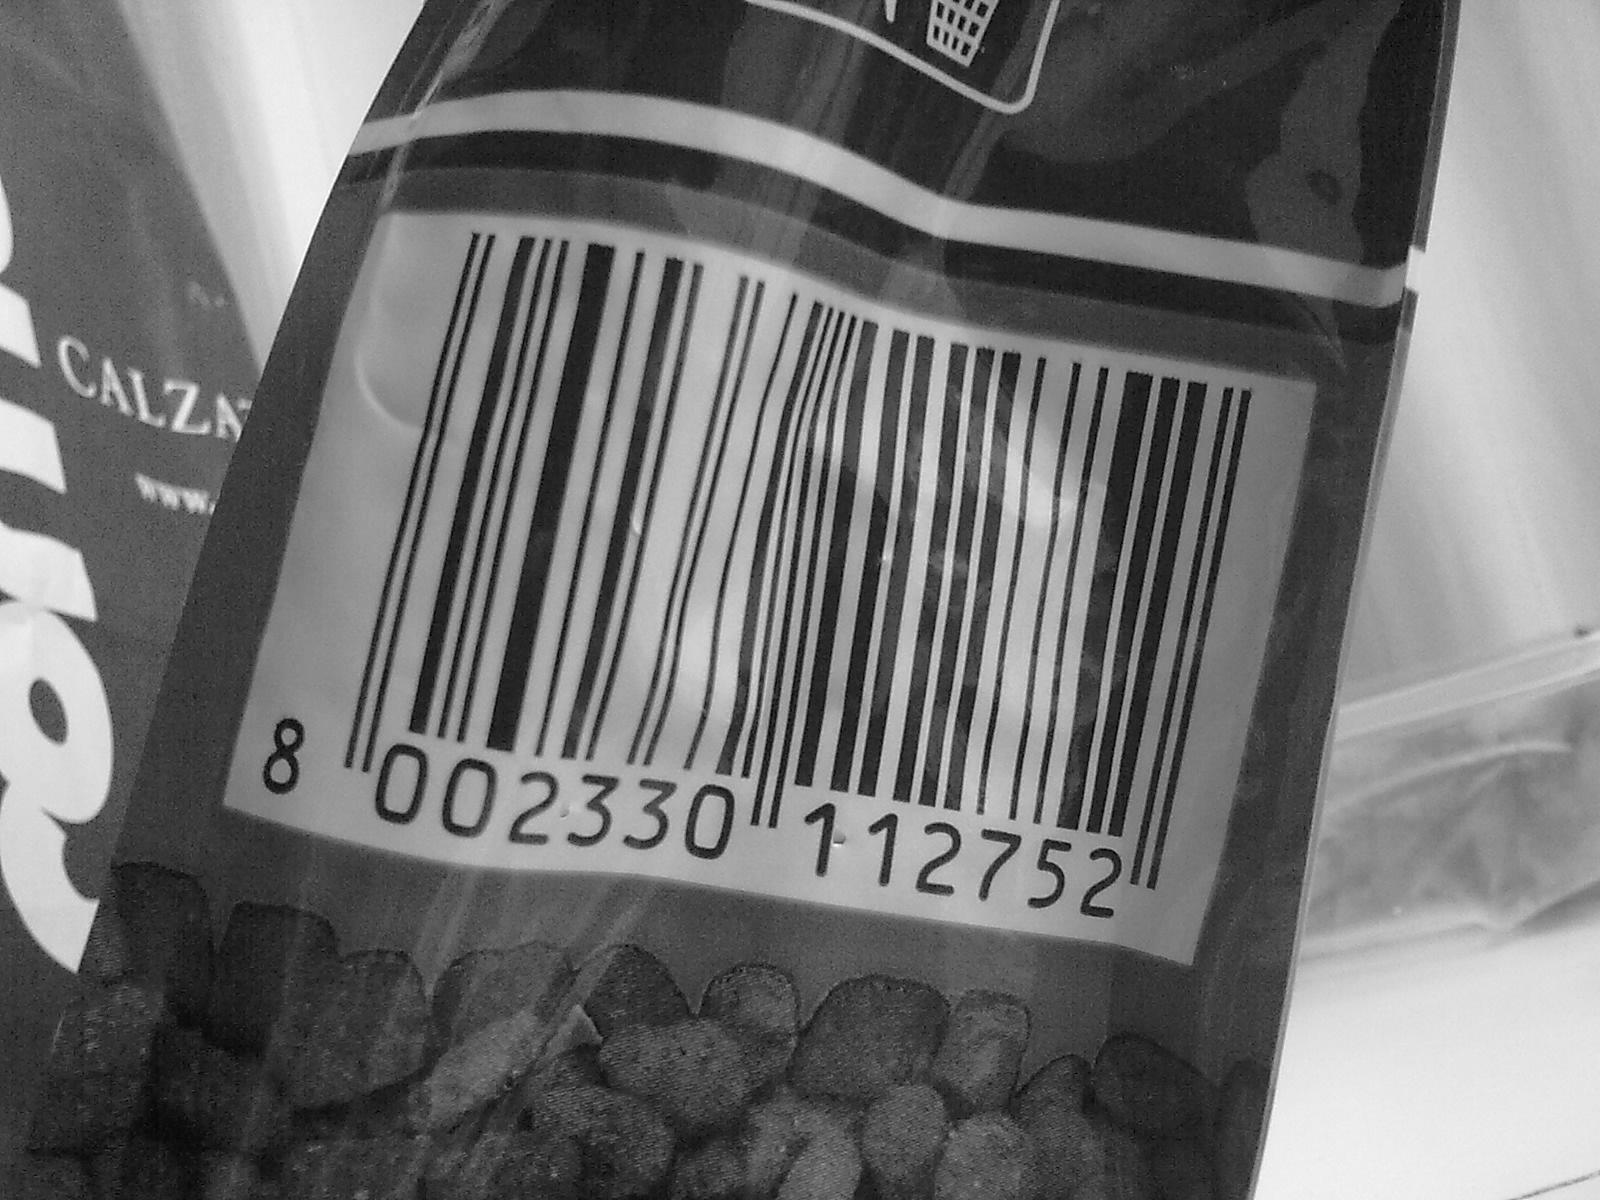Barcode: (406, 236, 1248, 934)
